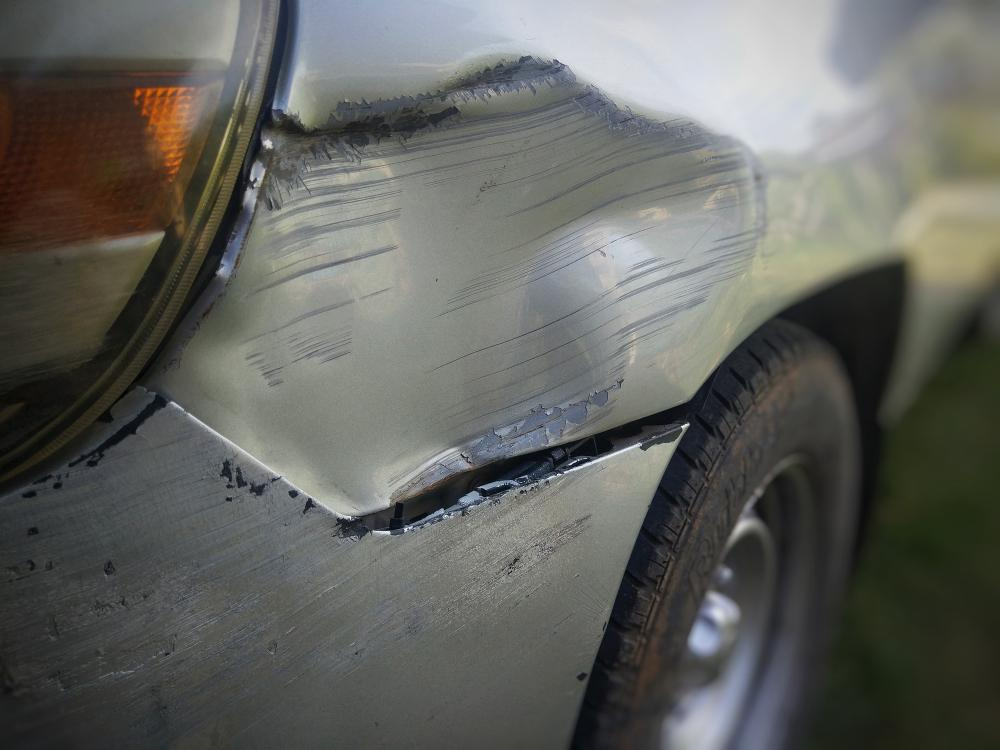dent: (177, 57, 764, 514)
scratch: (0, 399, 609, 750)
